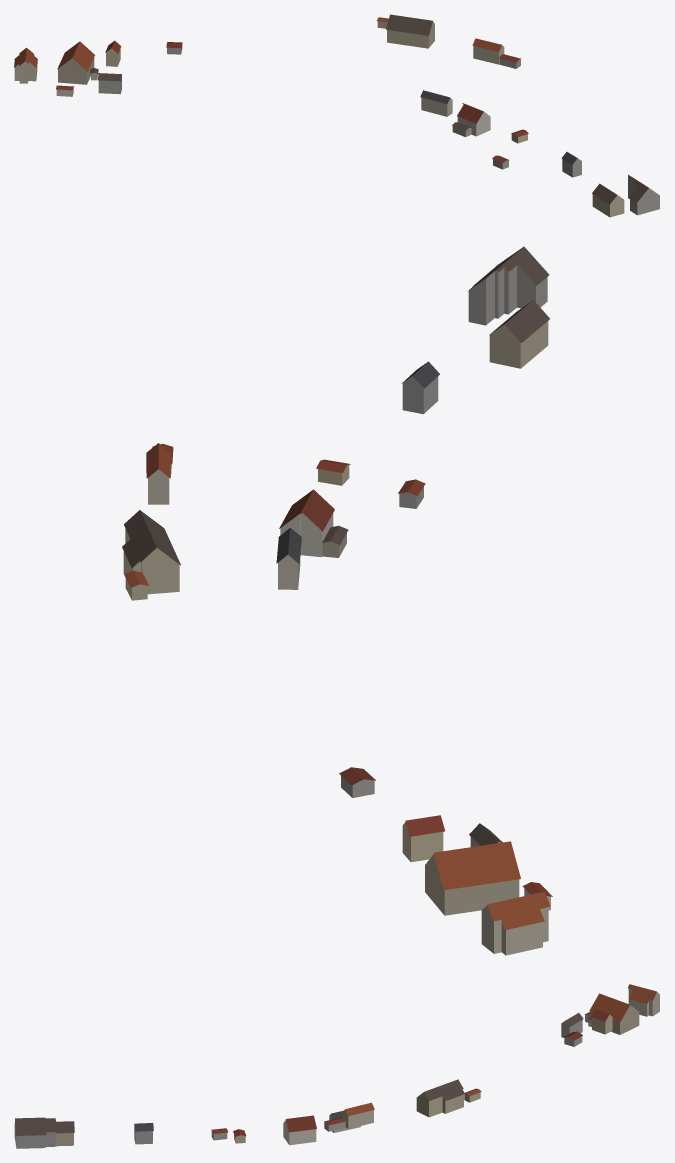
3 renders of one model, top to bottom at view 1: azimuth 30°, elevation 25°; view 2: azimuth 150°, elevation 25°; view 3: azimuth 270°, elevation 25°, orthographic. The views are drawn at different scales.
Parts seen in each view (by area): view 1: buildings; view 2: buildings; view 3: buildings.
Boxes of the visible parts, <box> form: buildings: <box>14,14,659,217</box>; buildings: <box>122,246,552,955</box>; buildings: <box>14,984,659,1148</box>.
Size of the model in its own units: 164 by 29.62 by 260.
